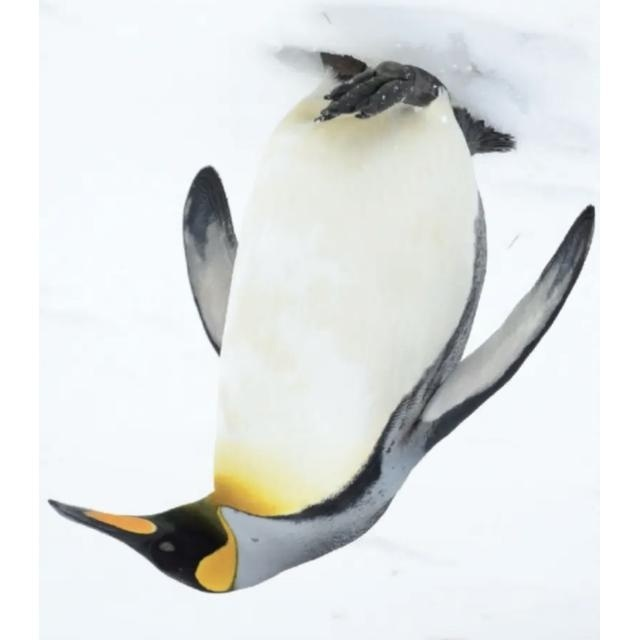penguin: (47, 50, 595, 593)
